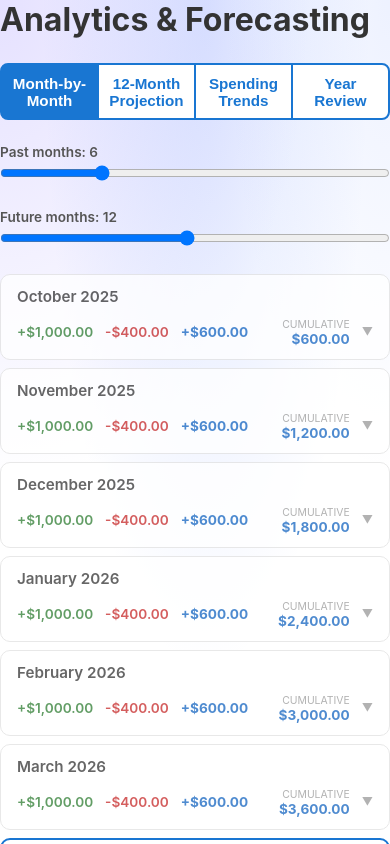
Test case: AnalyticsView › projection tab › shows correct projections with data
Click the button "12-Month Projection": [146, 92] box [98,63,195,120]
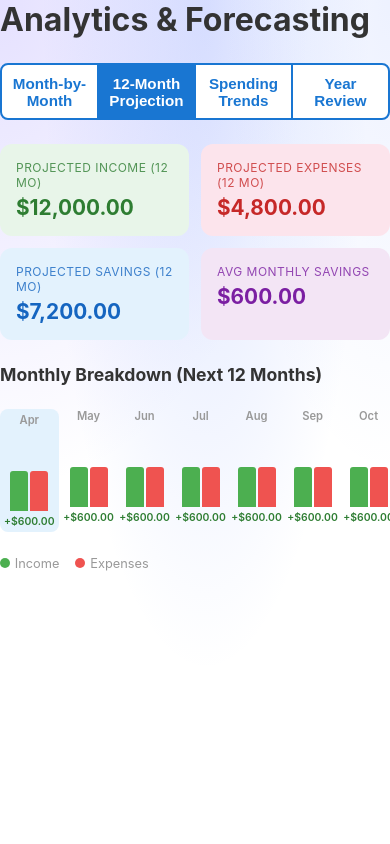
Expected: the text "$4,800.00" is shown, [217,195,326,220]
Expected: the text "$12,000.00" is shown, [16,195,134,220]
